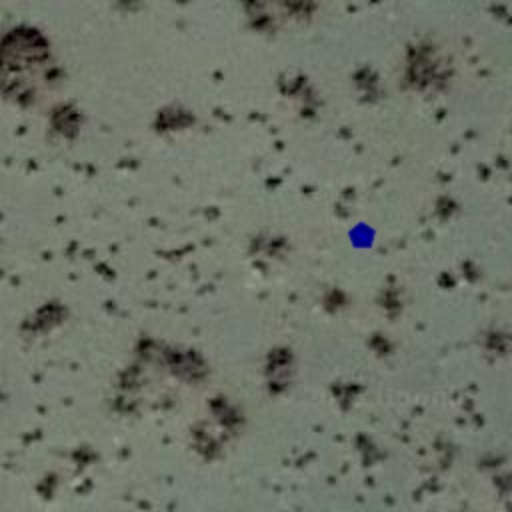pentagon: (340, 214, 384, 258)
